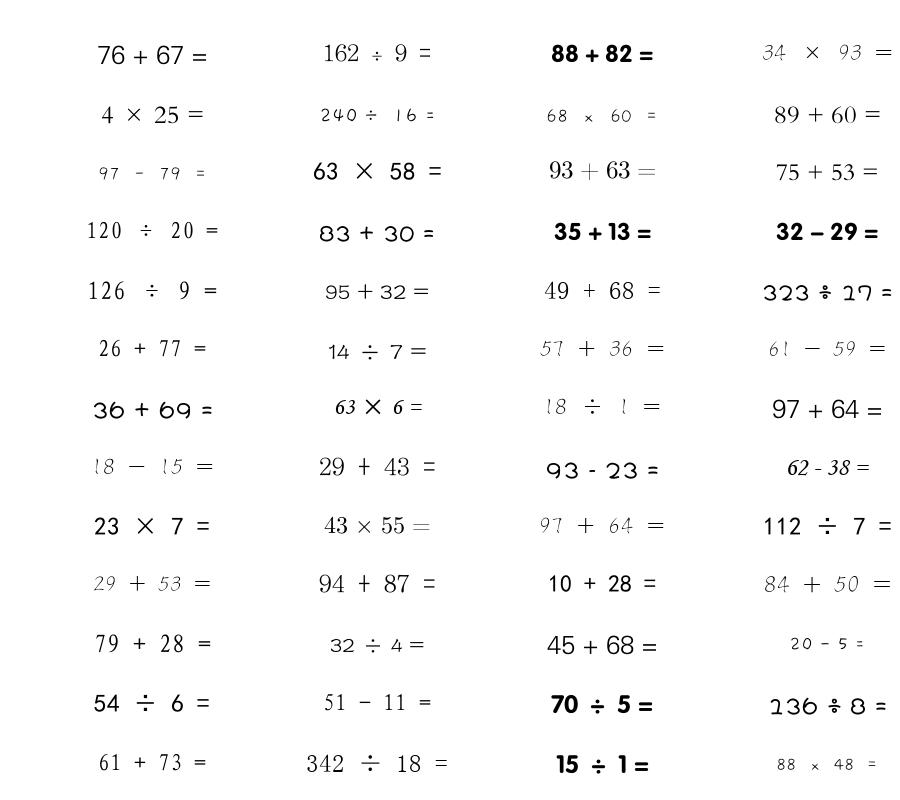MQ: (306, 754, 448, 772), (87, 281, 217, 300), (86, 221, 218, 239), (313, 162, 442, 180), (763, 517, 892, 535), (764, 575, 891, 593), (762, 44, 893, 61), (319, 457, 436, 476), (319, 574, 436, 593), (94, 634, 211, 653), (97, 45, 208, 65), (772, 399, 883, 419), (547, 635, 658, 655), (92, 401, 213, 419), (539, 517, 665, 534), (768, 697, 887, 715), (549, 161, 656, 181), (540, 340, 665, 357), (544, 281, 661, 299), (762, 285, 893, 301), (91, 458, 214, 475), (94, 517, 210, 535), (94, 694, 210, 712), (551, 694, 653, 714), (543, 398, 661, 415), (319, 225, 435, 242), (323, 44, 431, 62), (98, 339, 206, 357), (548, 575, 656, 593), (323, 693, 431, 711), (98, 753, 206, 771), (551, 44, 653, 63), (776, 222, 878, 241), (774, 106, 881, 124), (324, 516, 431, 534), (546, 462, 659, 479), (768, 341, 886, 357), (556, 754, 649, 774), (101, 106, 204, 124), (554, 222, 651, 241), (93, 576, 211, 591), (325, 283, 429, 300), (776, 164, 879, 181), (319, 108, 435, 123), (328, 344, 427, 360), (546, 109, 658, 123), (98, 167, 207, 181), (333, 399, 422, 415), (330, 638, 424, 653), (785, 460, 869, 476), (776, 758, 878, 771), (789, 637, 865, 651)
